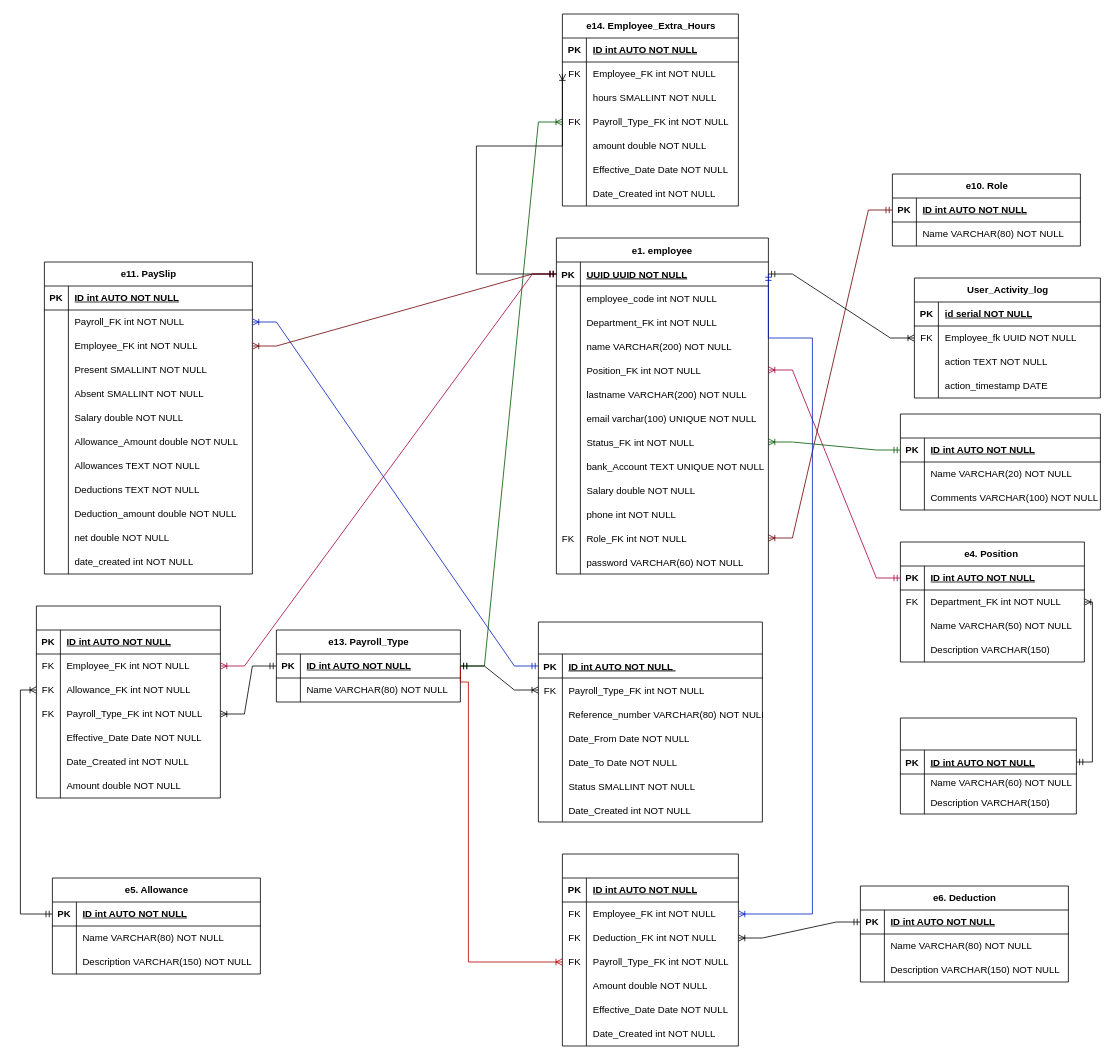
The diagram is 1114 pixels wide and 1060 high, and some of its shapes have lost their labels. The shapes that lost their labels are listed below. From the top down, each one's box as (x1, y1, x2, y2) in pixels, then its label:
(900, 413, 1100, 510): e12. Status
(36, 605, 220, 798): e7. Employee_Allowances
(538, 621, 762, 822): e2. Payroll
(900, 717, 1076, 814): e3. Department
(562, 853, 738, 1046): e8. Employee_Deductions
